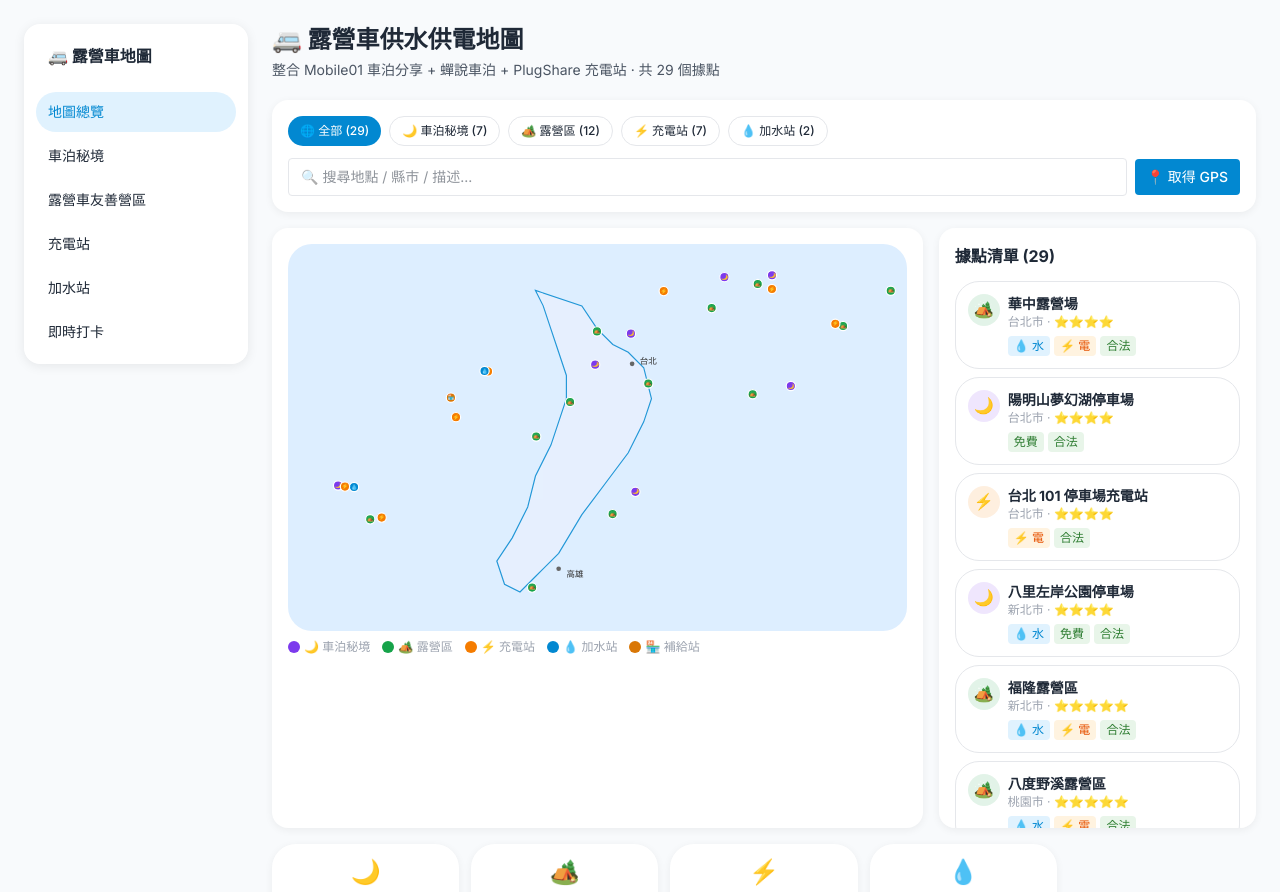
Test: Sprint 3 — 導覽列與路由 › 點 secret 連結會導到 /secret
Click the link with test id "nav-secret": (76, 156) [48,147,104,164]
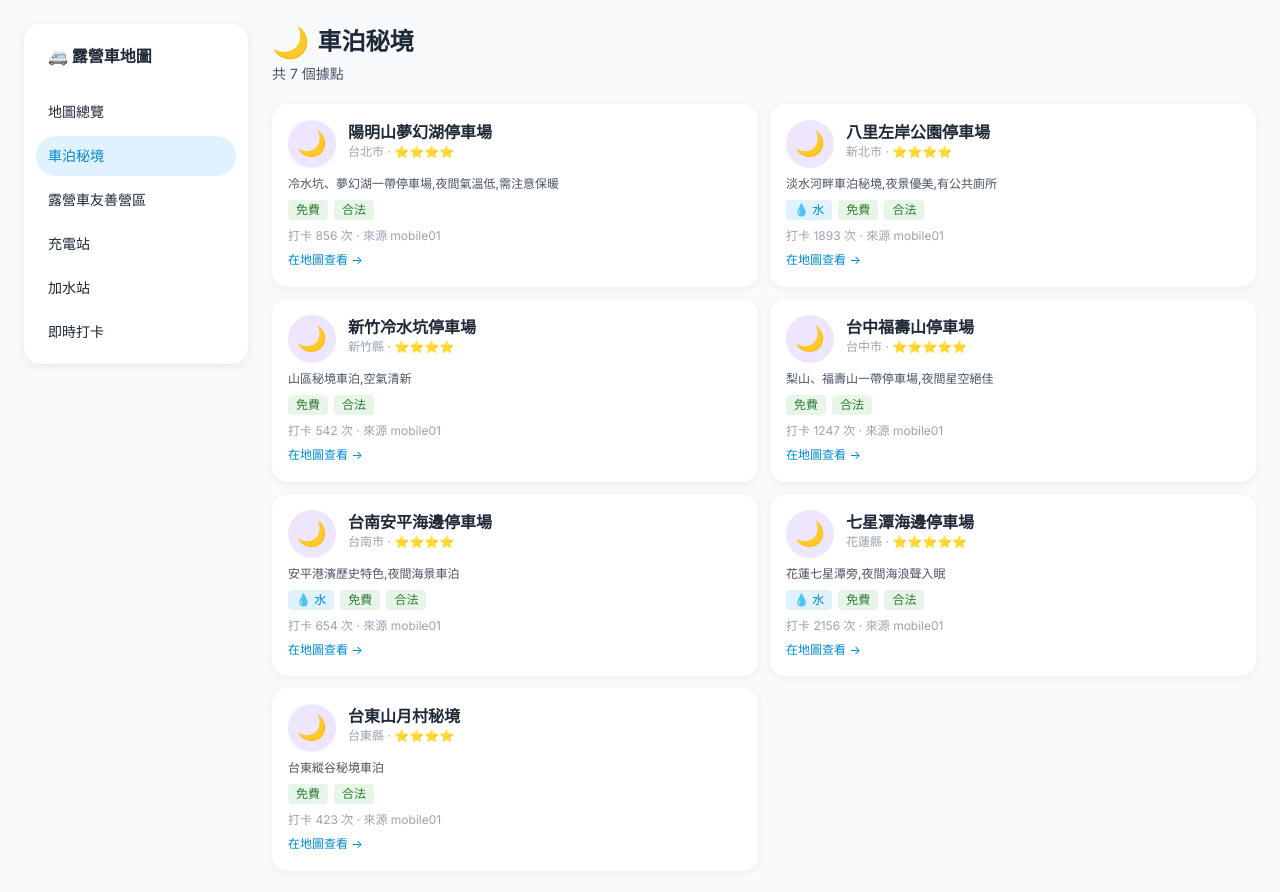
expect the element with test id "kind-list" is shown: met
